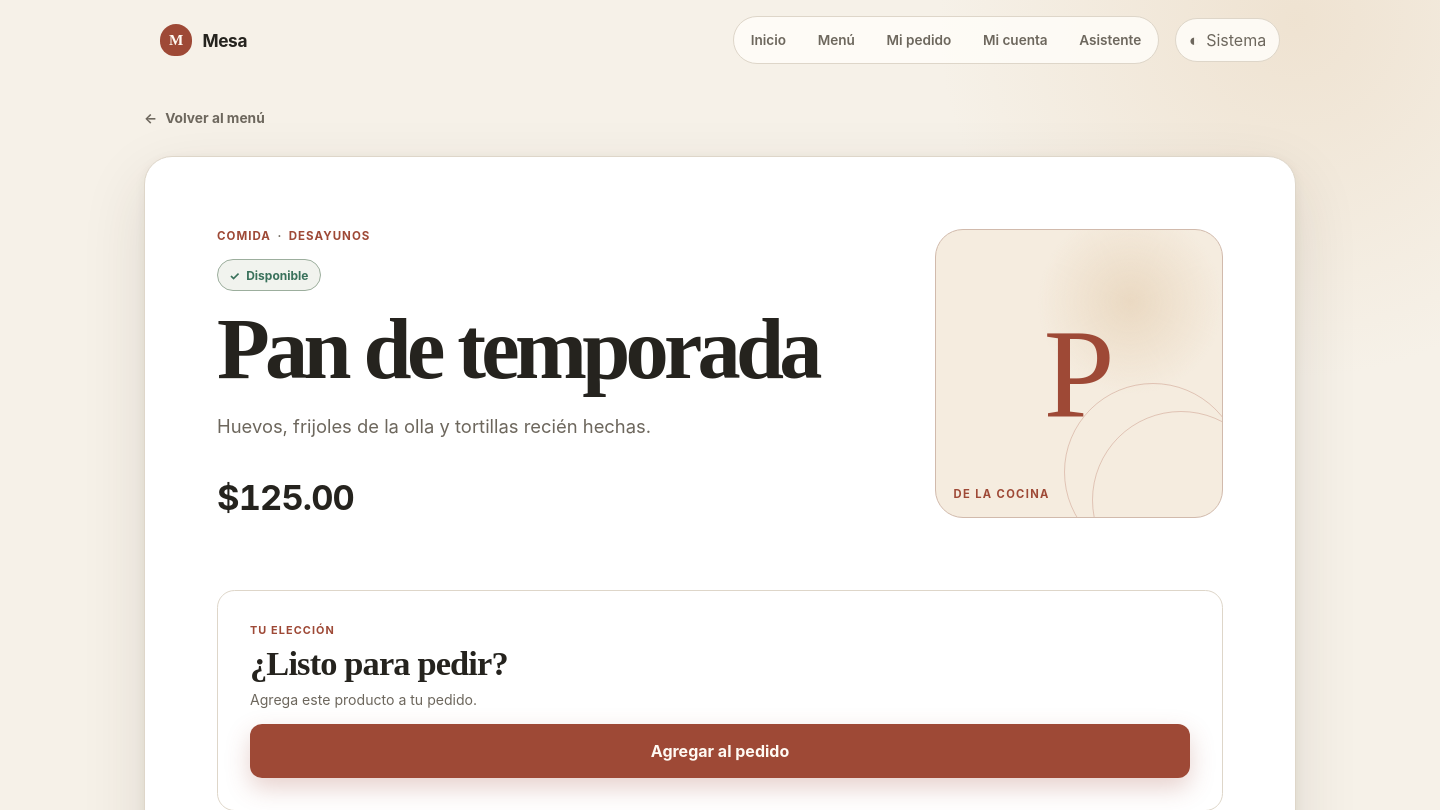
Test case: product detail › adds a simple product without sending artificial choice-group mutations
Click the button "Agregar al pedido".
click(720, 751)  # box 250,724 -> 1190,778
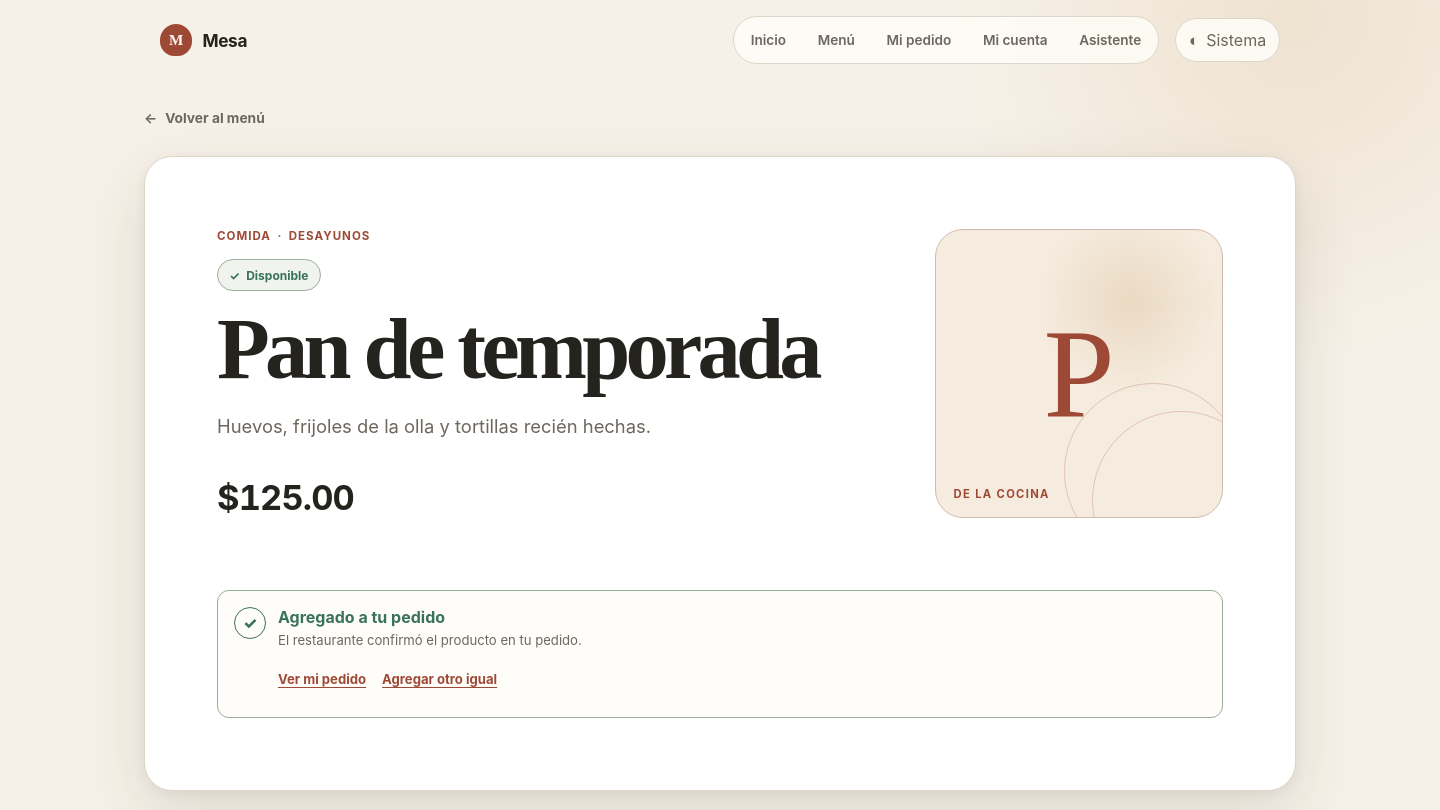
Check: the text "Agregado a tu pedido" is shown, box 278,607 -> 445,627
